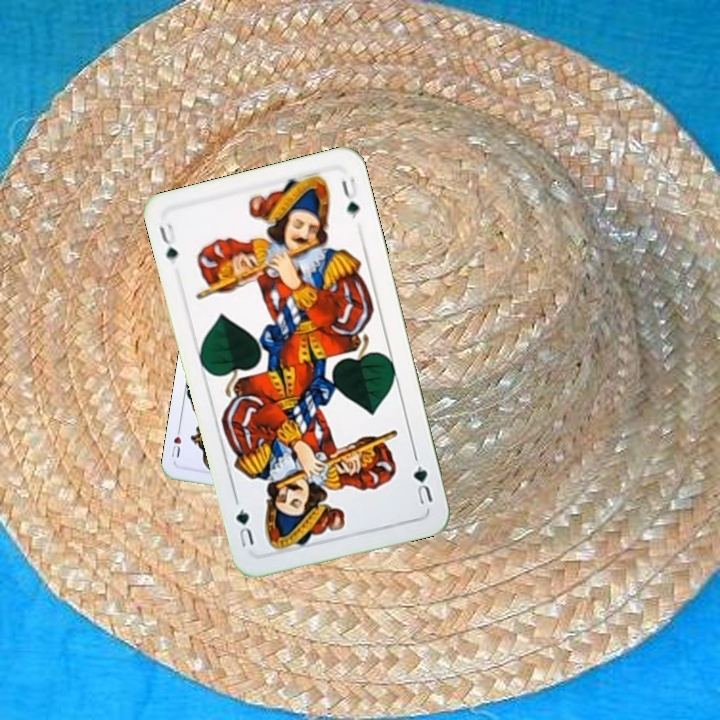GU: (409, 461, 436, 508), (155, 219, 181, 264)
